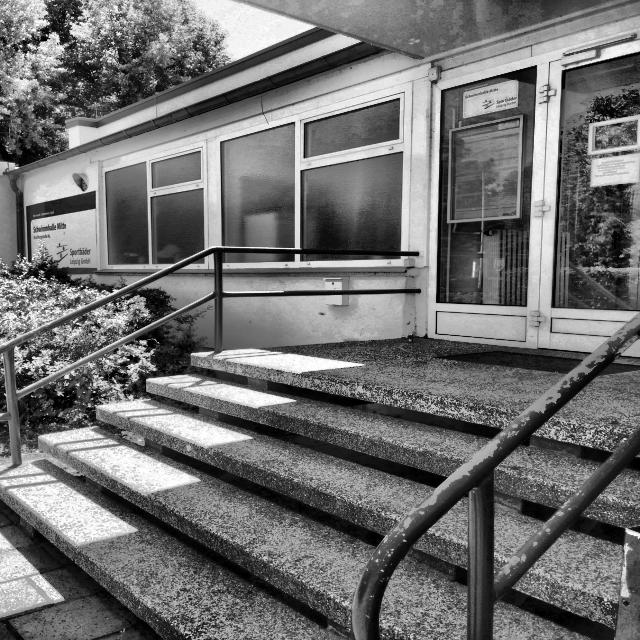escada: (2, 353, 640, 640)
